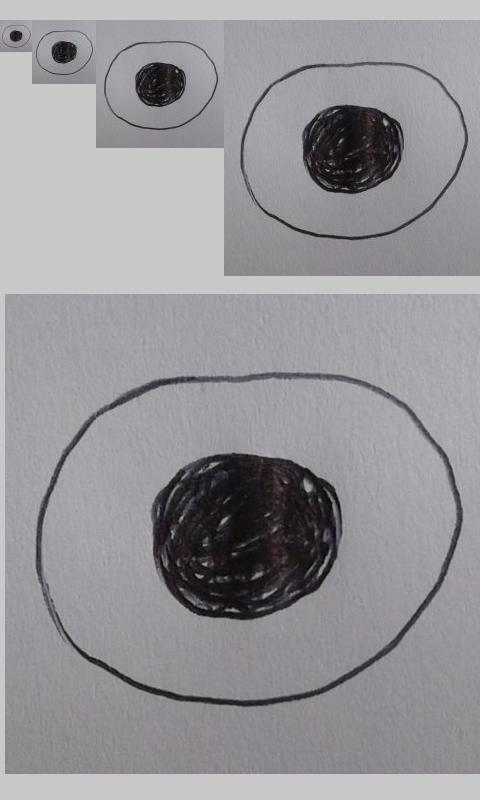radio_button: (32, 367, 466, 709), (238, 60, 469, 241), (103, 39, 219, 131), (35, 30, 95, 76), (1, 24, 32, 49)
